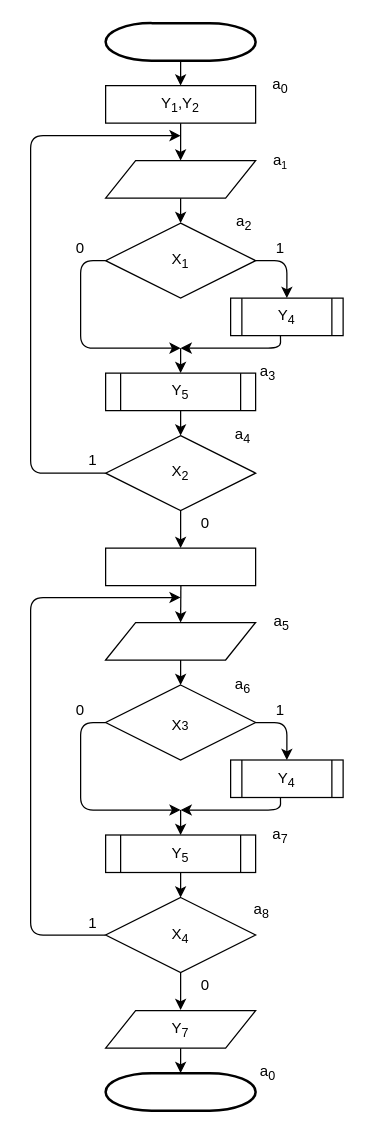
Image size: 365x1133. Some labels were removed from this diagram. Each missing label, with the centre of its shape:
"end" goes at (180,1091).
"start" goes at (180,41).
"Y 1" goes at (180,566).
"Y 3" goes at (180,178).
"Y 6" goes at (180,640).
